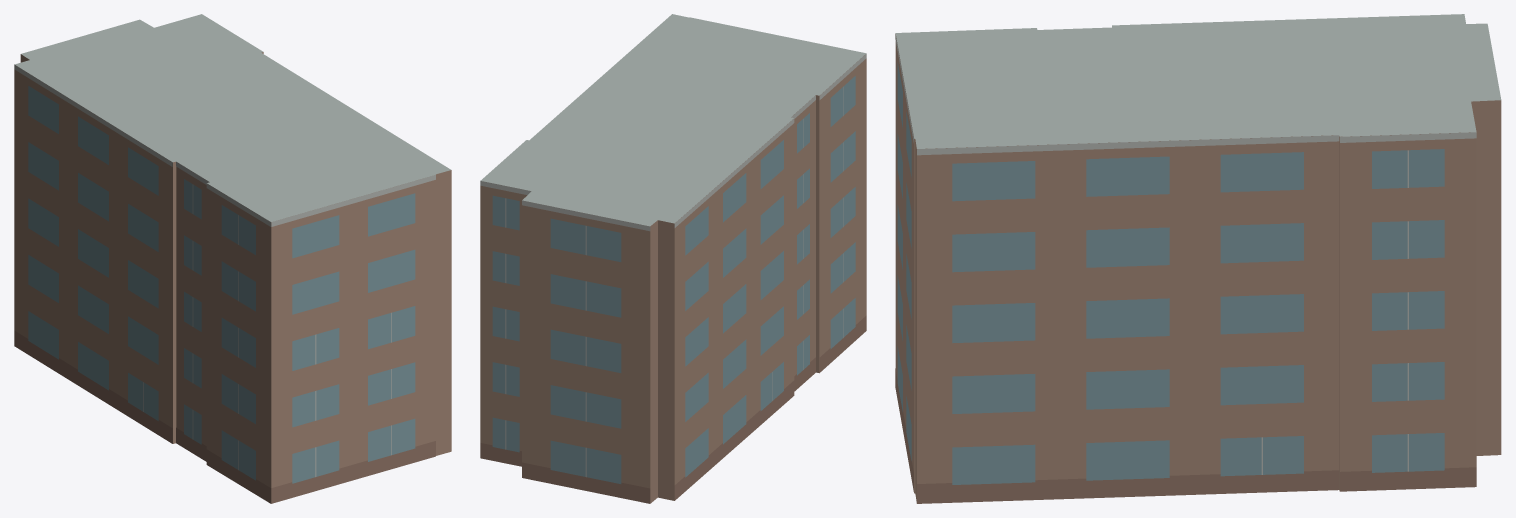
The model's file is survey-upis-33017169.glb.
3 renders of one model, left to right at view 1: azimuth 30°, elevation 25°; view 2: azimuth 150°, elevation 25°; view 3: azimuth 270°, elevation 25°, orthographic. The views are drawn at different scales.
Visible parts, largest first — view 1: survey-upis-33017169.tmp; view 2: survey-upis-33017169.tmp; view 3: survey-upis-33017169.tmp.
Part boxes in pixels (bbox=[...]): survey-upis-33017169.tmp: bbox=[14, 14, 451, 503]; survey-upis-33017169.tmp: bbox=[480, 14, 866, 503]; survey-upis-33017169.tmp: bbox=[895, 14, 1501, 503].
Bounding box in the file's own units: 11.36 × 13.9 × 21.52.
